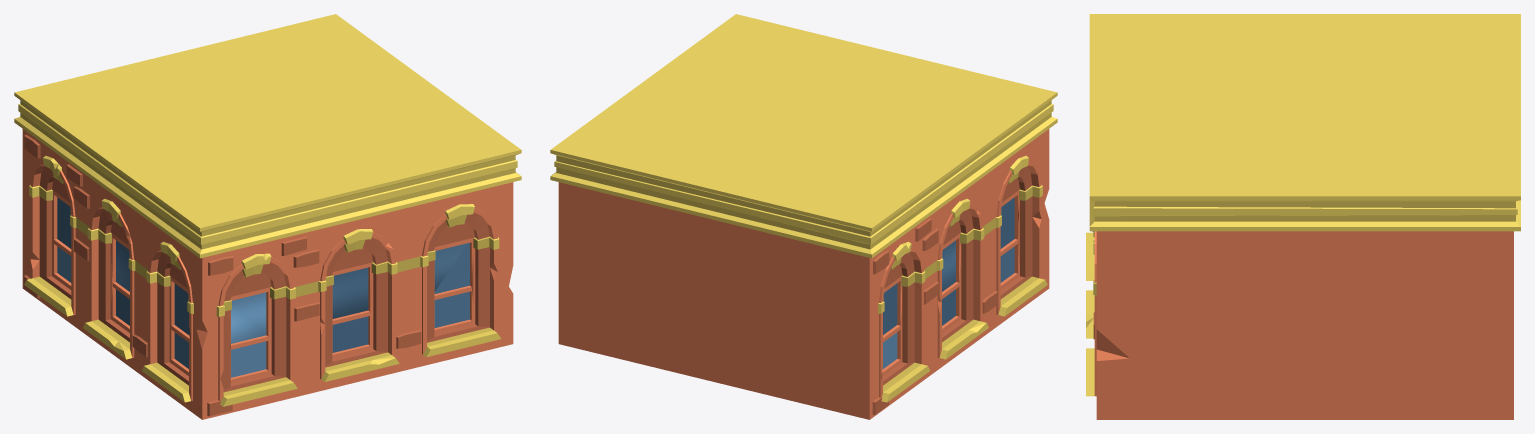
File: Mod_Edificio_6.fbx
The picture shows the model from 3 angles, left to right: view 1: azimuth 30°, elevation 25°; view 2: azimuth 150°, elevation 25°; view 3: azimuth 270°, elevation 25°; orthographic projection. The views are drawn at different scales.
Parts seen in each view (by area): view 1: Edificio_6; view 2: Edificio_6; view 3: Edificio_6.
Boxes of the visible parts, x1=… form: Edificio_6: x1=14, y1=14, x2=521, y2=419; Edificio_6: x1=550, y1=14, x2=1057, y2=419; Edificio_6: x1=1086, y1=14, x2=1520, y2=419.
Bounding box in the file's own units: 5.21 × 3 × 5.21.
